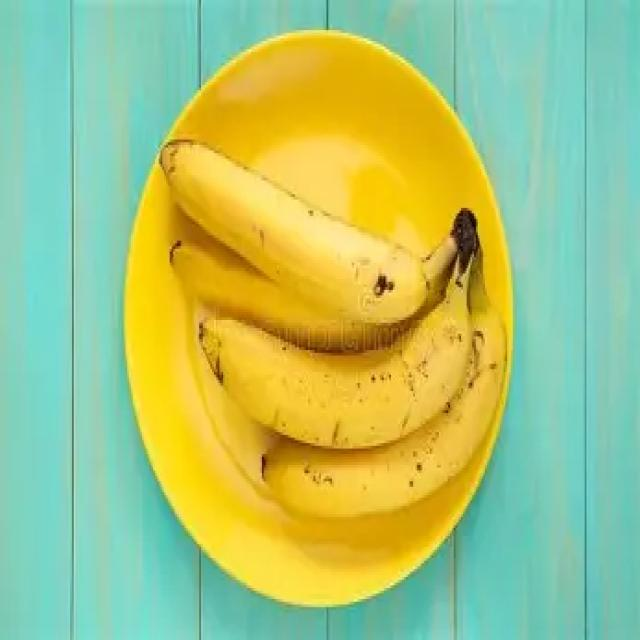BANANA: (159, 137, 509, 523)
